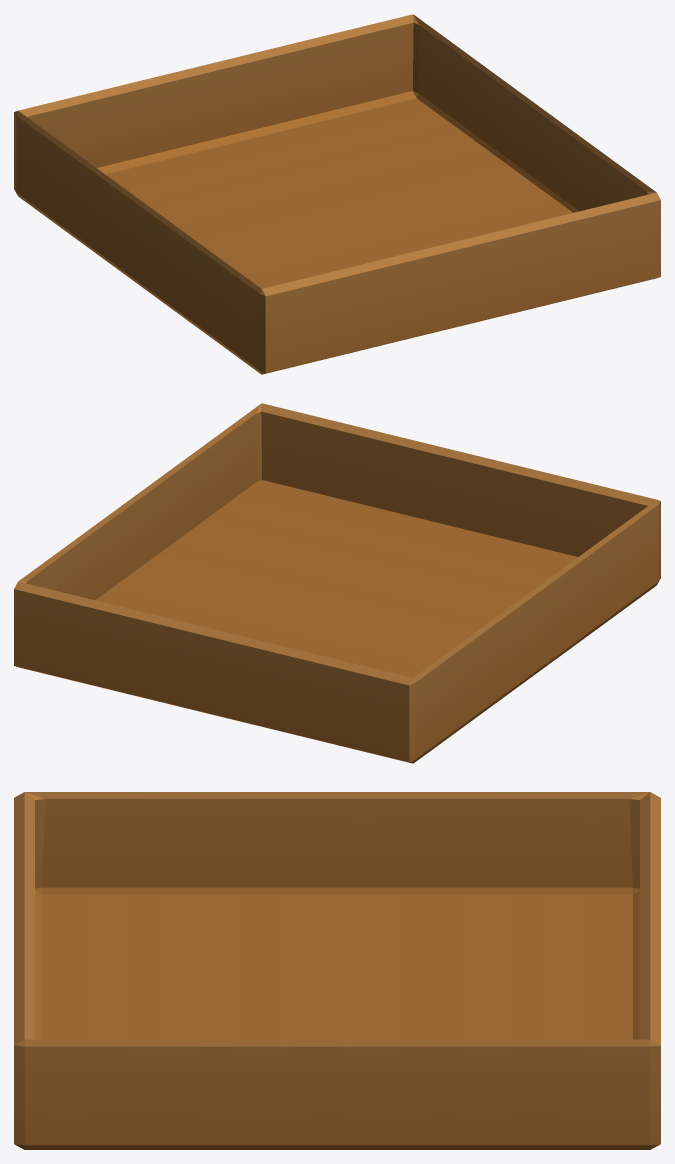
File: Drawer6.fbx
3 renders of one model, top to bottom at view 1: azimuth 30°, elevation 25°; view 2: azimuth 150°, elevation 25°; view 3: azimuth 270°, elevation 25°, orthographic. The views are drawn at different scales.
Parts seen in each view (by area): view 1: DresserDrawer6; view 2: DresserDrawer6; view 3: DresserDrawer6.
Part boxes in pixels (<box>): DresserDrawer6: <box>14,14,660,374</box>; DresserDrawer6: <box>14,403,660,763</box>; DresserDrawer6: <box>14,792,660,1149</box>.
Size of the model in its own units: 131 by 26.98 by 144.
1 material, 1 textured.
